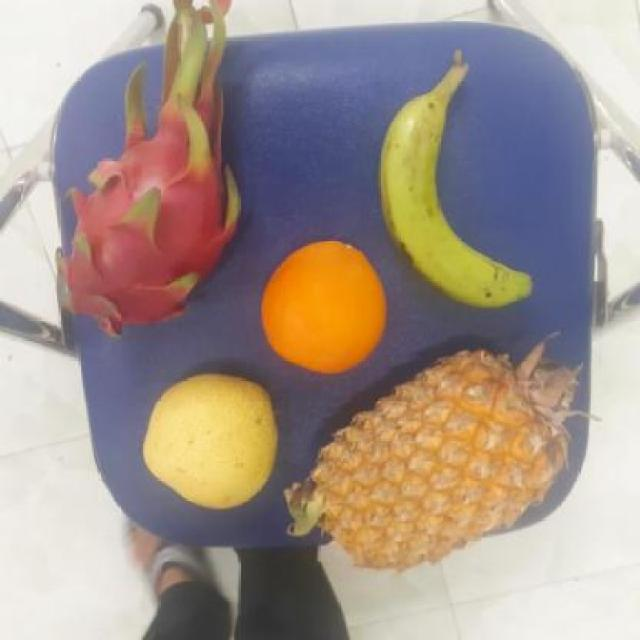banana: (378, 75, 520, 300)
dragon fruit: (58, 64, 248, 344)
oren: (260, 238, 389, 372)
pear: (141, 371, 284, 511)
pineapple: (305, 344, 583, 568)
